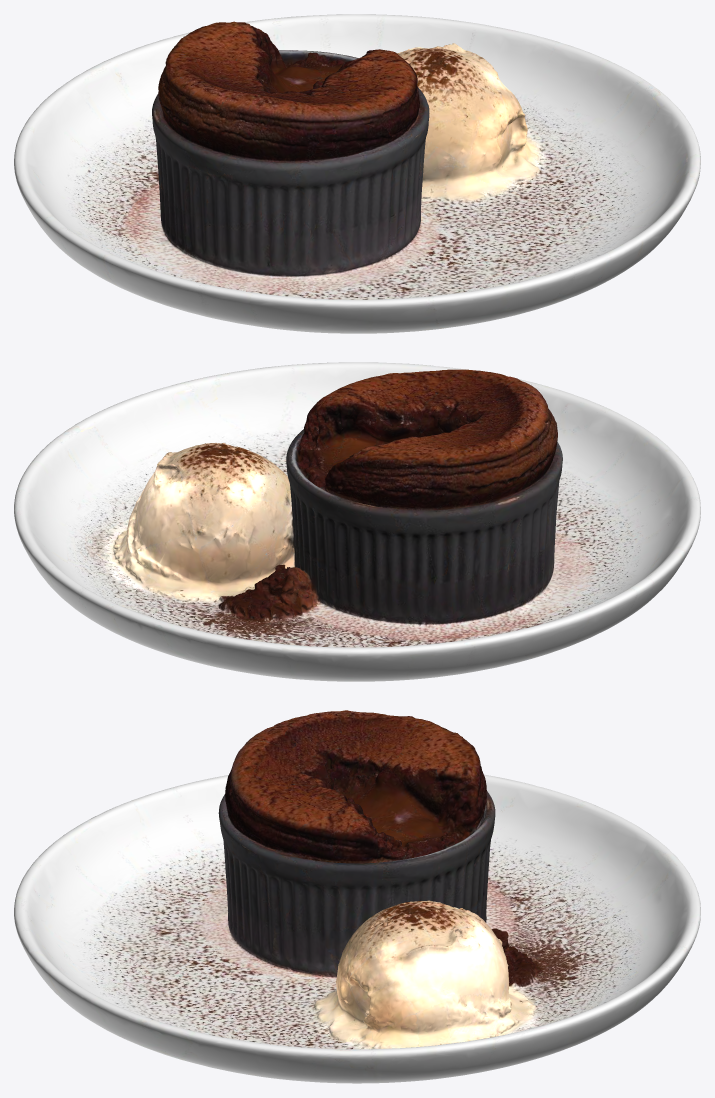
The model's file is souffle-chocolat-ar-lite-meshy.glb.
3 views of the same model, one above another, from view 1: azimuth 30°, elevation 25°; view 2: azimuth 150°, elevation 25°; view 3: azimuth 270°, elevation 25° (orthographic).
Visible parts, largest first — view 1: node0; view 2: node0; view 3: node0.
Boxes of the visible parts, x1,y1,x2,y2 form: node0: (14, 14, 700, 333); node0: (14, 362, 700, 681); node0: (14, 710, 700, 1083).
Size of the model in its own units: 0.18 by 0.0562 by 0.18.
Materials: 1 (1 with a texture image).
